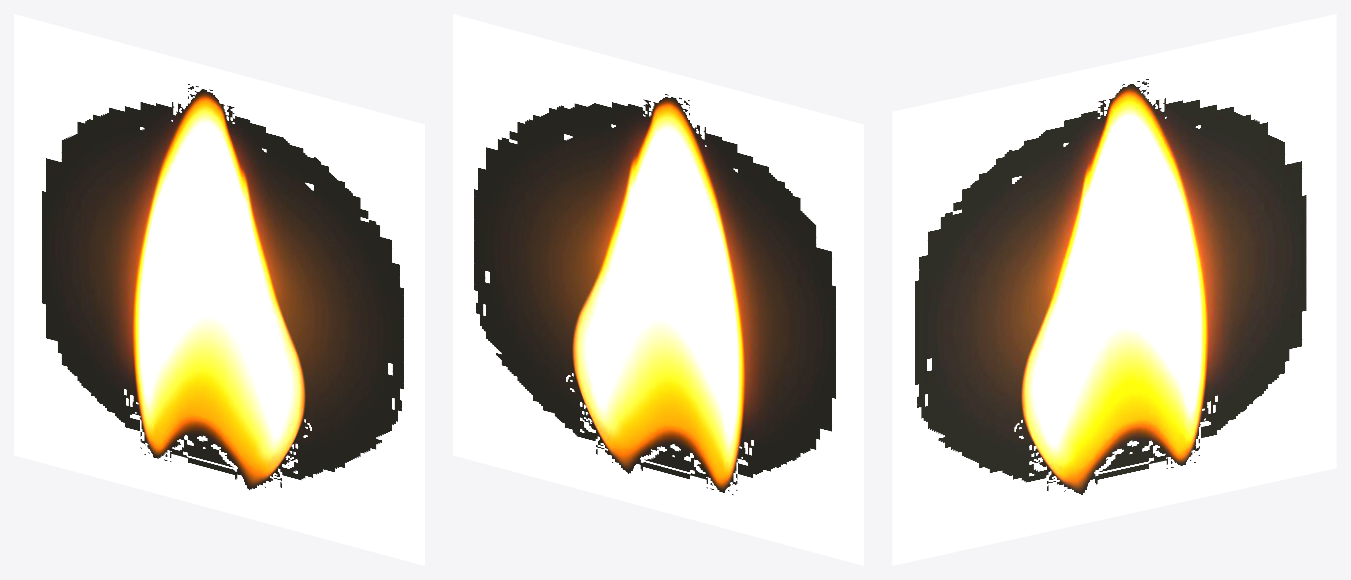
3 renders of one model, left to right at view 1: azimuth 30°, elevation 25°; view 2: azimuth 210°, elevation 25°; view 3: azimuth 270°, elevation 25°, orthographic. The views are drawn at different scales.
Visible parts, largest first — view 1: _126; view 2: _126; view 3: _126.
Part boxes in pixels (bbox=[...]): _126: bbox=[14, 14, 424, 565]; _126: bbox=[453, 14, 863, 565]; _126: bbox=[892, 14, 1336, 565].
Bounding box in the file's own units: 5.18 × 11.21 × 9.94.
